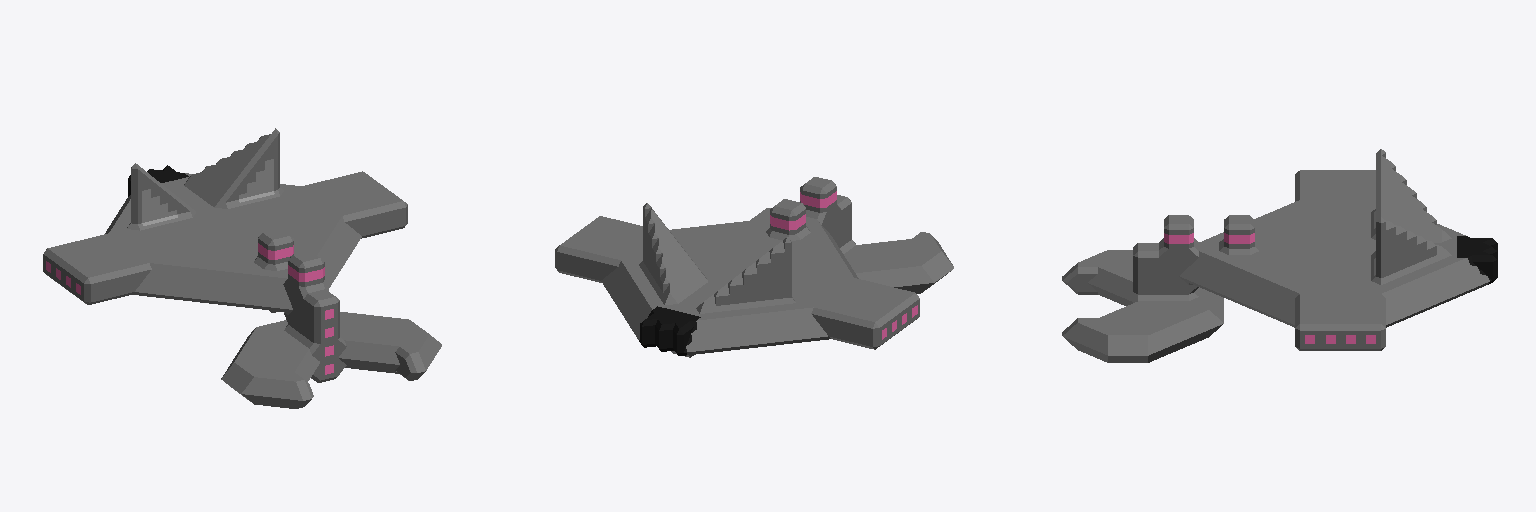
3 renders of one model, left to right at view 1: azimuth 30°, elevation 25°; view 2: azimuth 150°, elevation 25°; view 3: azimuth 270°, elevation 25°, orthographic.
Size of the model in its own units: 37 by 16 by 43.
Materials: 1 (1 with a texture image).